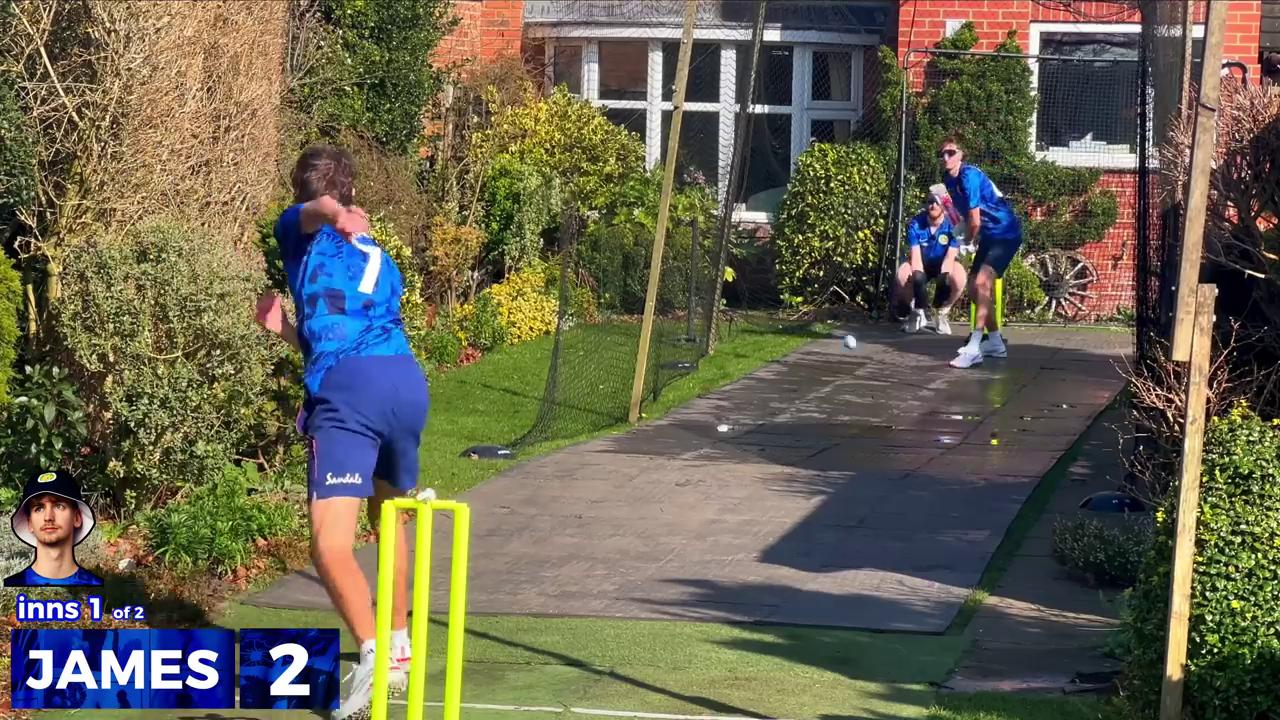ball: (837, 329, 863, 362)
